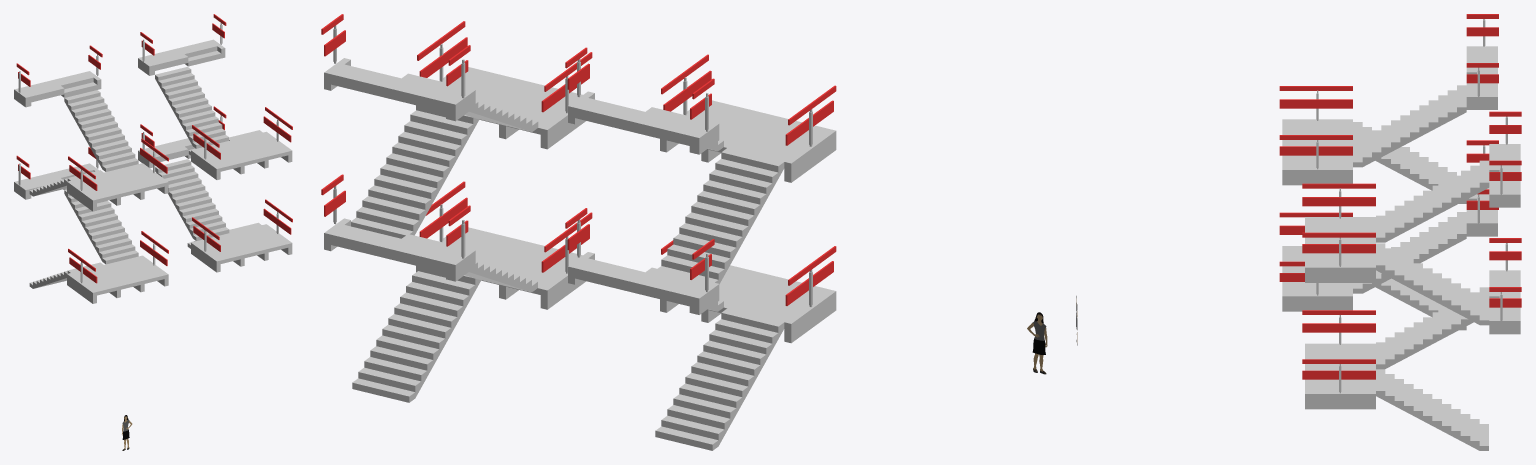
File: Escaleras_Aulas.fbx
3 views of the same model, side by side, from view 1: azimuth 30°, elevation 25°; view 2: azimuth 150°, elevation 25°; view 3: azimuth 270°, elevation 25° (orthographic). The views are drawn at different scales.
Parts seen in each view (by area): view 1: Group148, Group209, Group87, Group26, Componente_22_2, Componente_22_3, Componente_22_1, Componente_22_4, Group176, Group237, Group54, Group115 (+8 smaller); view 2: Group87, Componente_22_4, Componente_22_3, Componente_22_1, Componente_22_2, Group26, Group148, Group209, Group54, Group115, Componente_23_7, Componente_23_3 (+49 smaller); view 3: Group209, Group87, Group148, Group26, Componente_22_4, Componente_22_2, Componente_22_3, Componente_23_11, Componente_23_12, Componente_23_7, Componente_23_15, Componente_23_8 (+13 smaller).
Part boxes in pixels (x1,y1,x2,y2): Group148: [191, 131, 292, 172]; Group209: [191, 224, 292, 264]; Group87: [67, 163, 168, 203]; Group26: [67, 255, 168, 296]; Componente_22_2: [14, 71, 101, 107]; Componente_22_3: [138, 39, 225, 75]; Componente_22_1: [14, 163, 98, 199]; Componente_22_4: [138, 138, 195, 168]; Group176: [191, 154, 292, 179]; Group237: [191, 246, 292, 272]; Group54: [67, 278, 168, 303]; Group115: [67, 185, 168, 211]; Group87: [683, 100, 836, 169]; Componente_22_4: [324, 218, 475, 281]; Componente_22_3: [324, 58, 475, 121]; Componente_22_1: [568, 252, 719, 314]; Componente_22_2: [568, 91, 719, 154]; Group26: [707, 265, 836, 330]; Group148: [439, 67, 582, 136]; Group209: [439, 227, 582, 296]; Group54: [660, 298, 836, 343]; Group115: [660, 137, 836, 182]; Componente_23_7: [785, 85, 836, 145]; Componente_23_3: [785, 246, 836, 305]; Group209: [1305, 343, 1375, 398]; Group87: [1282, 119, 1352, 174]; Group148: [1305, 217, 1375, 272]; Group26: [1282, 246, 1352, 301]; Componente_22_4: [1489, 270, 1520, 334]; Componente_22_2: [1466, 46, 1497, 109]; Componente_22_3: [1489, 144, 1520, 207]; Componente_23_11: [1302, 183, 1375, 206]; Componente_23_12: [1302, 232, 1375, 253]; Componente_23_7: [1279, 86, 1352, 108]; Componente_23_15: [1302, 310, 1375, 332]; Componente_23_8: [1279, 135, 1352, 155].
Size of the model in its own units: 12.83 by 12.61 by 14.14.
